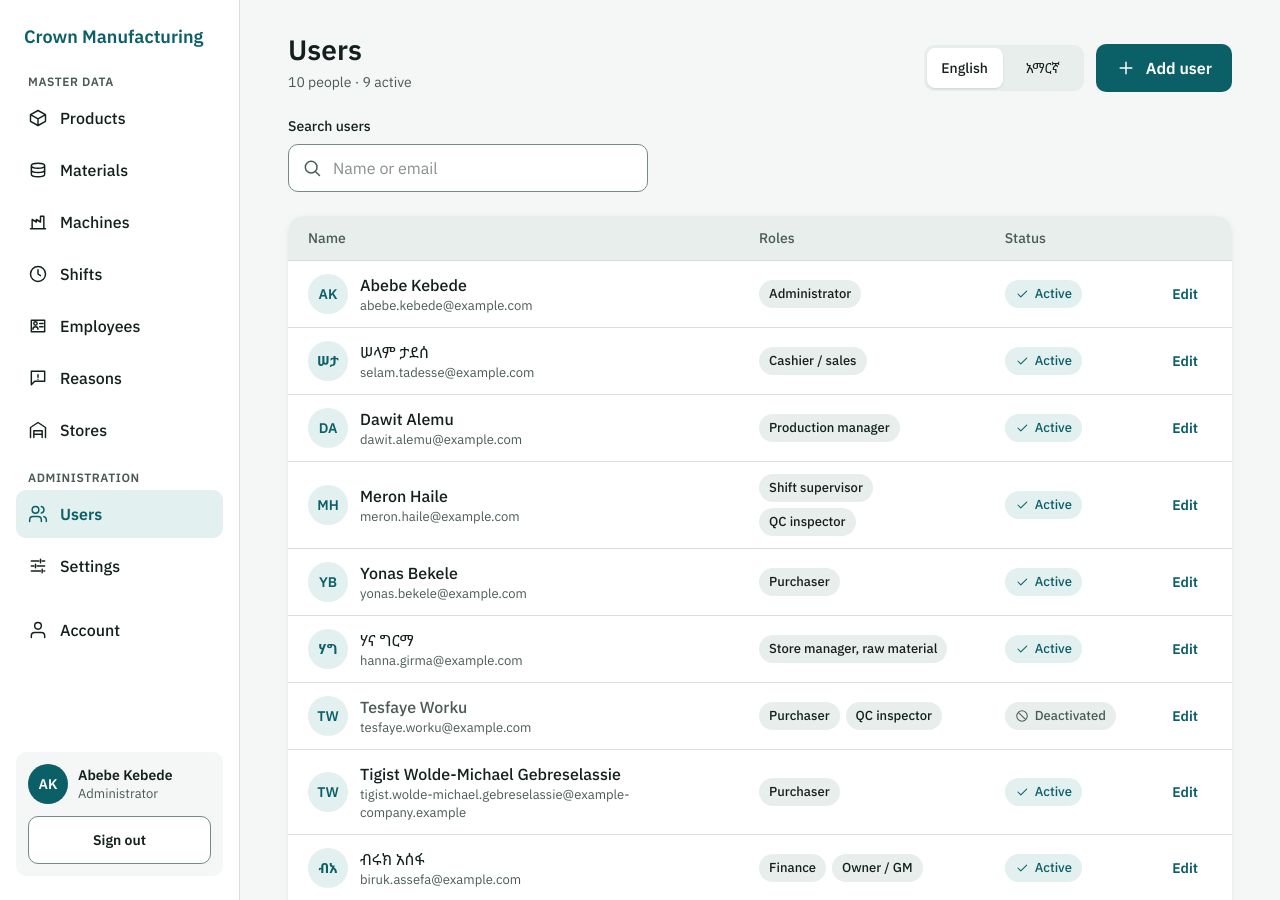
Test: editing a user › Reactivate is a plain button with no dialog
Click the button with aria-label "Edit Tesfaye Worku" at (1185,716), box left=1158, top=694, right=1212, bottom=738
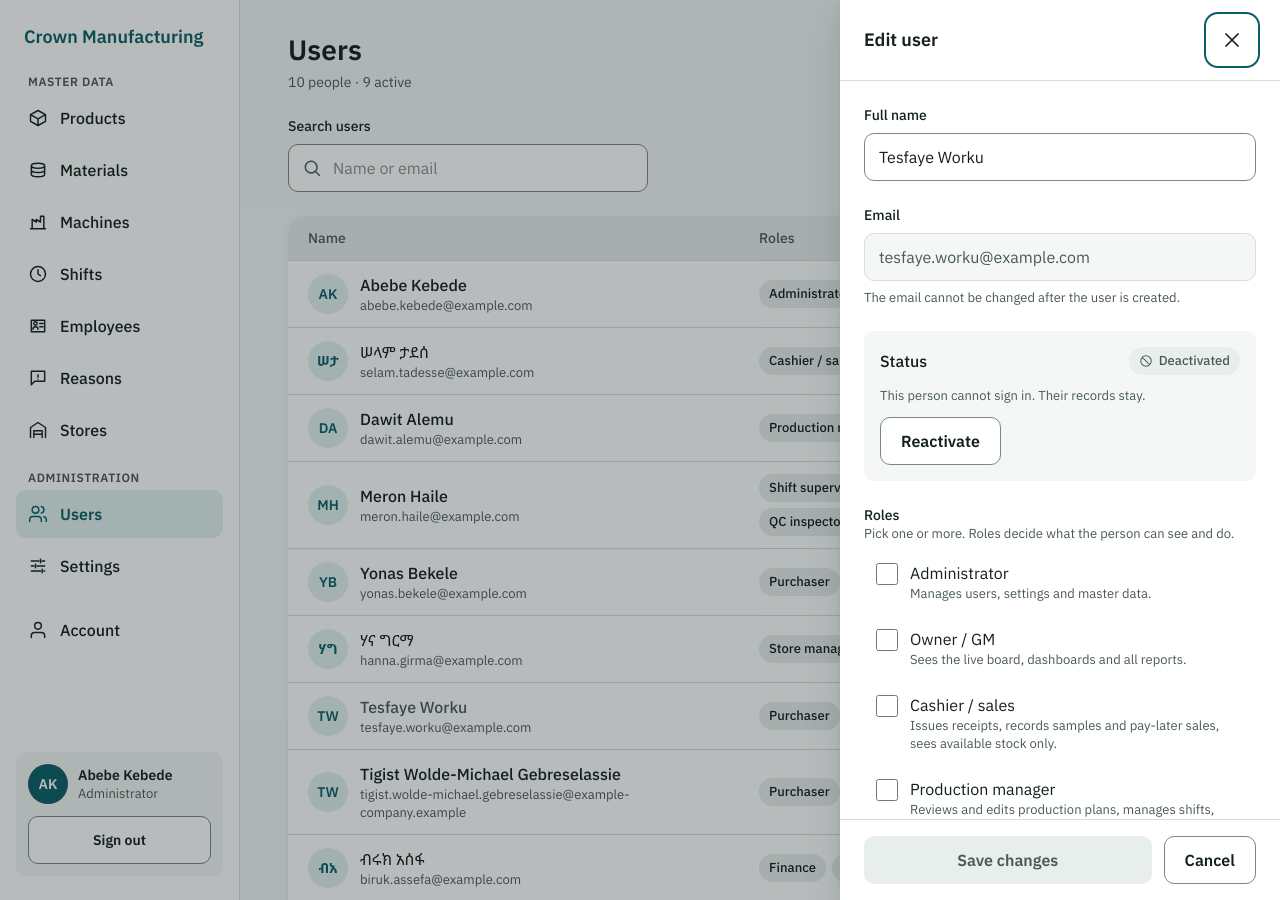
Click the button "Reactivate" at (940,441), box left=880, top=417, right=1001, bottom=465
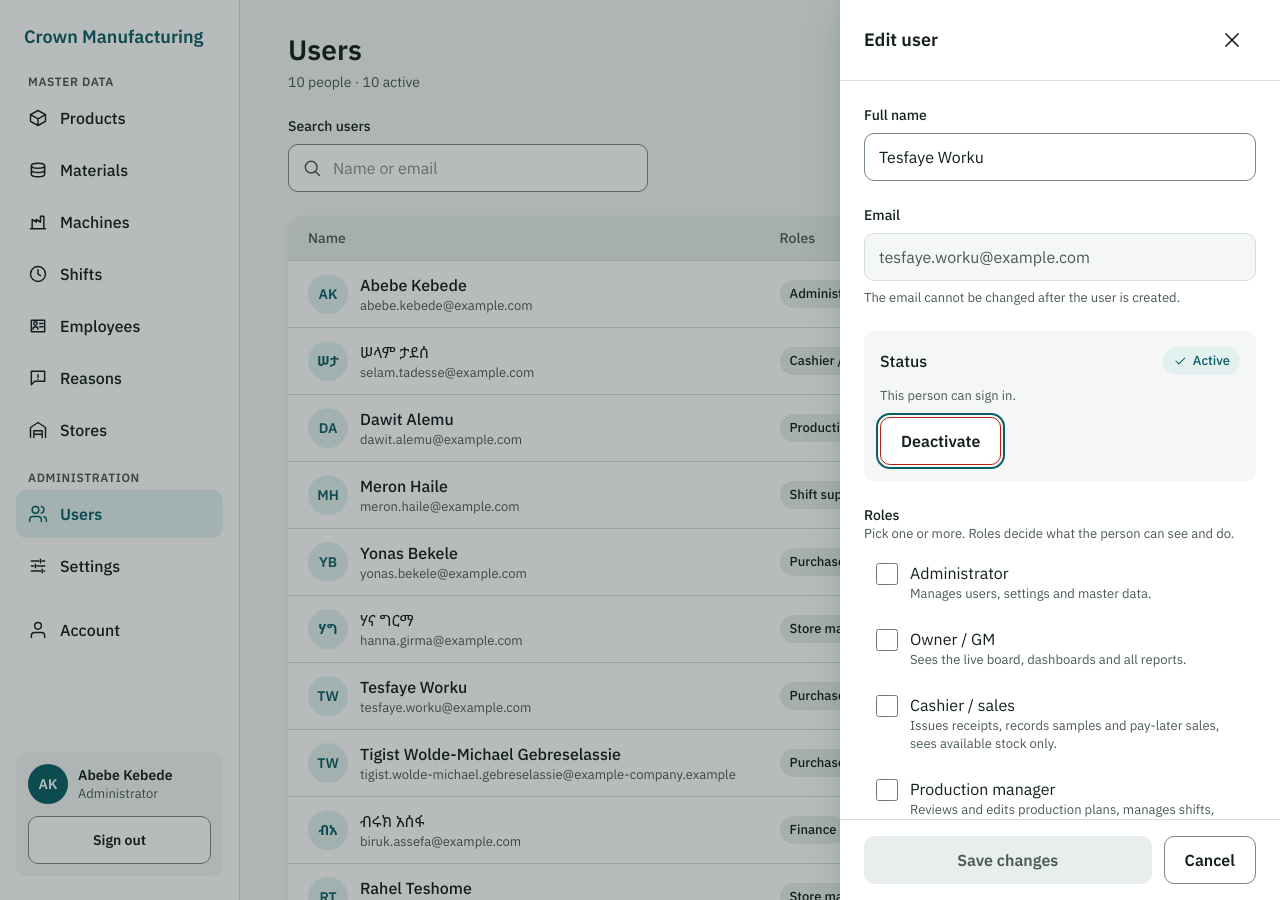
Result: the button "Deactivate" is shown at left=880, top=417, right=1002, bottom=465
